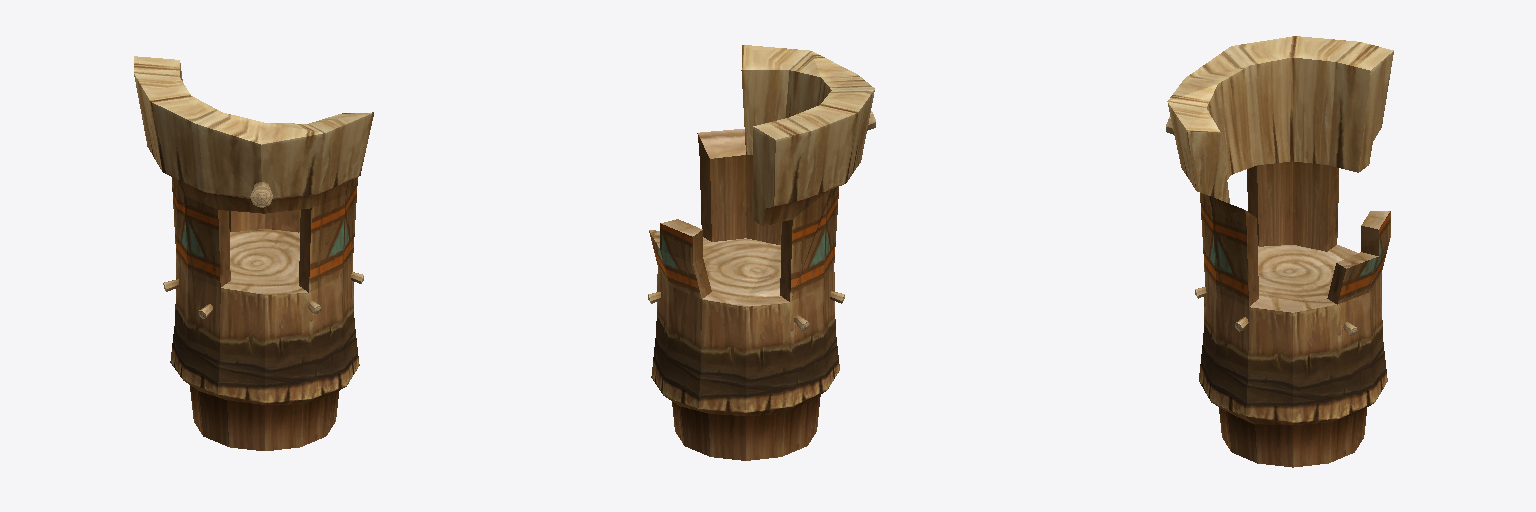
3 views of the same model, side by side, from view 1: azimuth 30°, elevation 25°; view 2: azimuth 150°, elevation 25°; view 3: azimuth 270°, elevation 25° (orthographic).
Parts seen in each view (by area): view 1: wt_lamppost01_wreckedb; view 2: wt_lamppost01_wreckedb; view 3: wt_lamppost01_wreckedb.
Part boxes in pixels (x1,y1,x2,y2): wt_lamppost01_wreckedb: (134,56,373,450); wt_lamppost01_wreckedb: (648,45,875,460); wt_lamppost01_wreckedb: (1166,36,1393,467).
Size of the model in its own units: 1.3 by 2.21 by 1.31.
Materials: 1 (1 with a texture image).